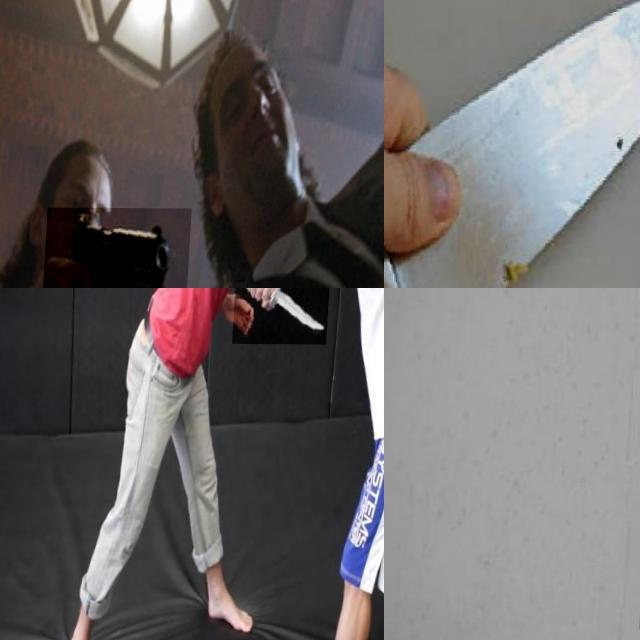-: (384, 0, 640, 288), (236, 288, 334, 344)
gun-knife-thesis - v11 Yolov5 augmented: (41, 207, 195, 288)
